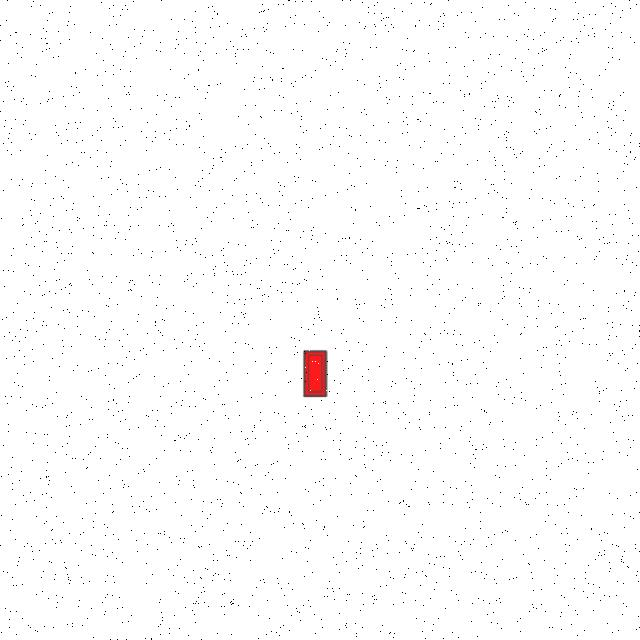3069b: (300, 346, 332, 402)
